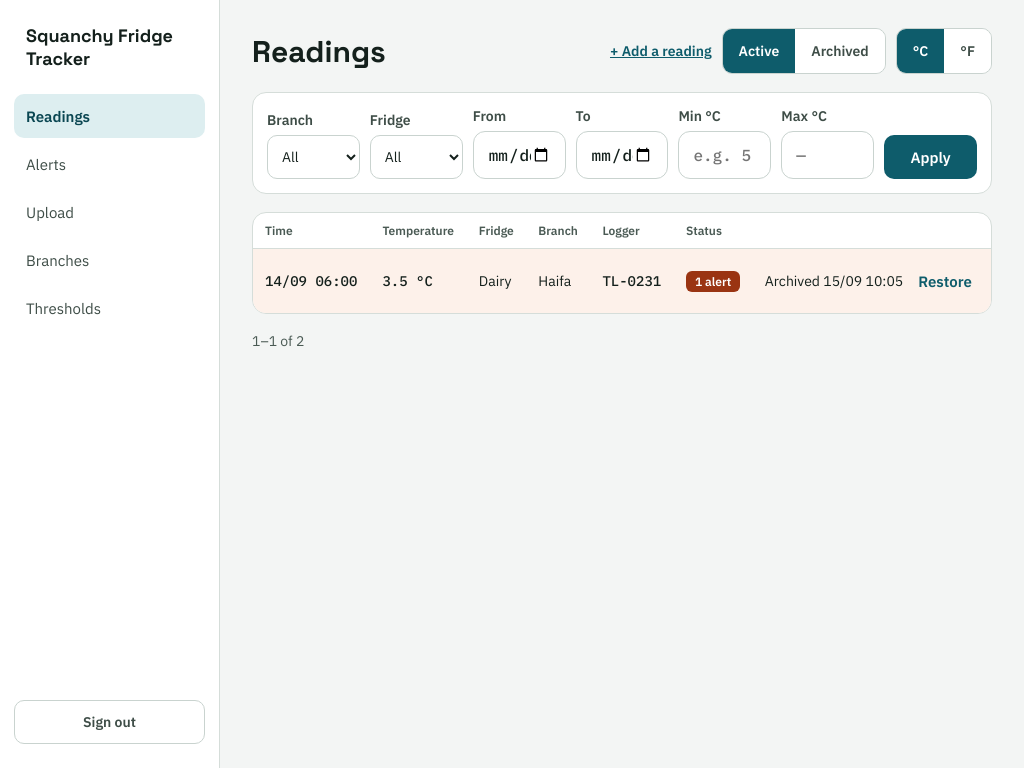
Test: ReadingsPage archive › cleans the archive only after a confirmation with the counts, and not on Cancel
Expected: the table named "Readings" is shown, [253, 213, 991, 313]
Click the button "Archived".
click(840, 51)  # box [795, 29, 885, 73]
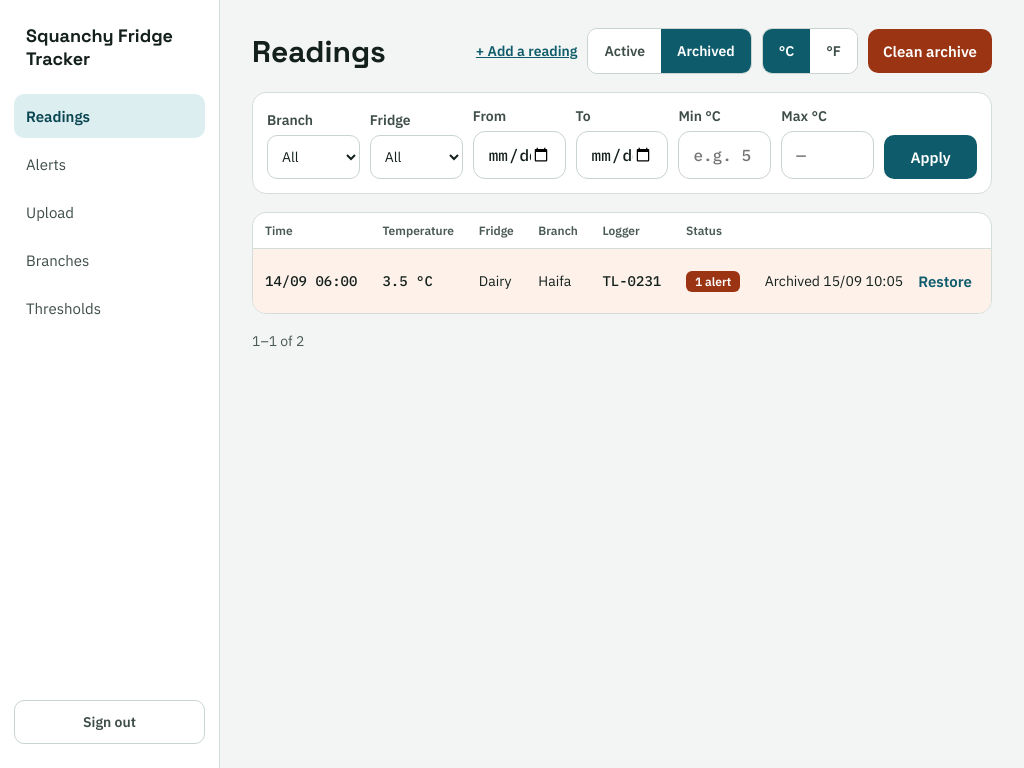
Click the button "Clean archive".
click(930, 51)  # box [868, 29, 992, 73]
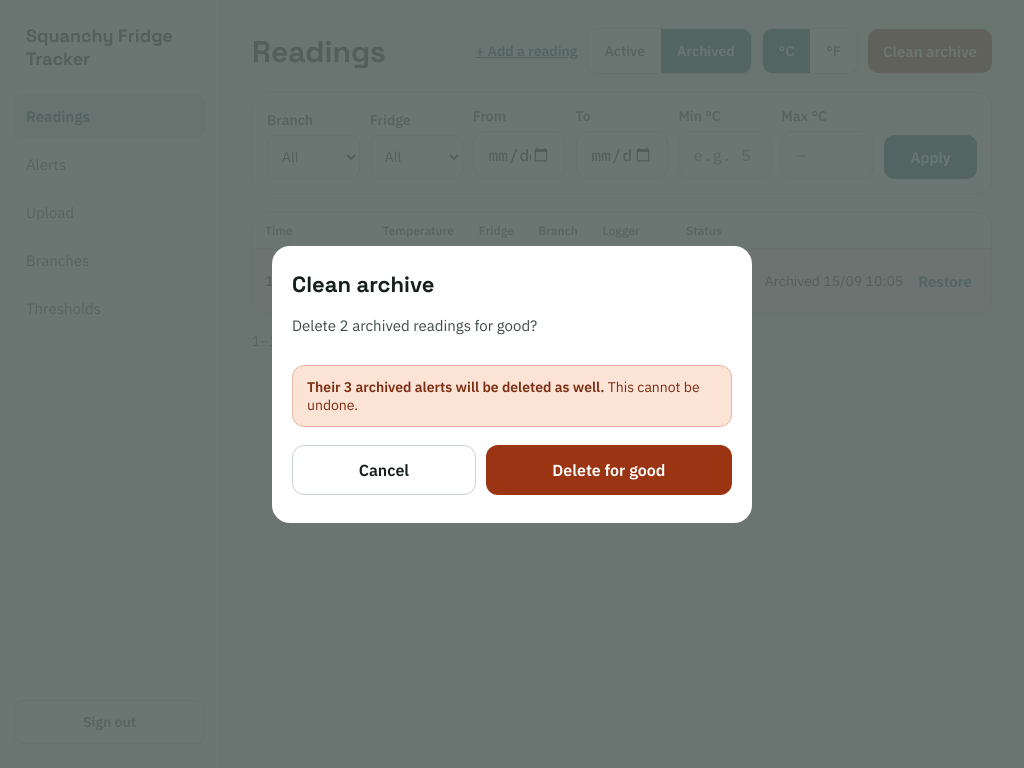
Expected: the text "Delete 2 archived readings for good?" is shown, [292, 316, 537, 334]
Expected: the message reads "Their 3 archived alerts will be deleted as well. This cannot be undone.", [292, 364, 732, 426]
Click the button "Cancel".
click(384, 470)  # box [292, 444, 476, 494]
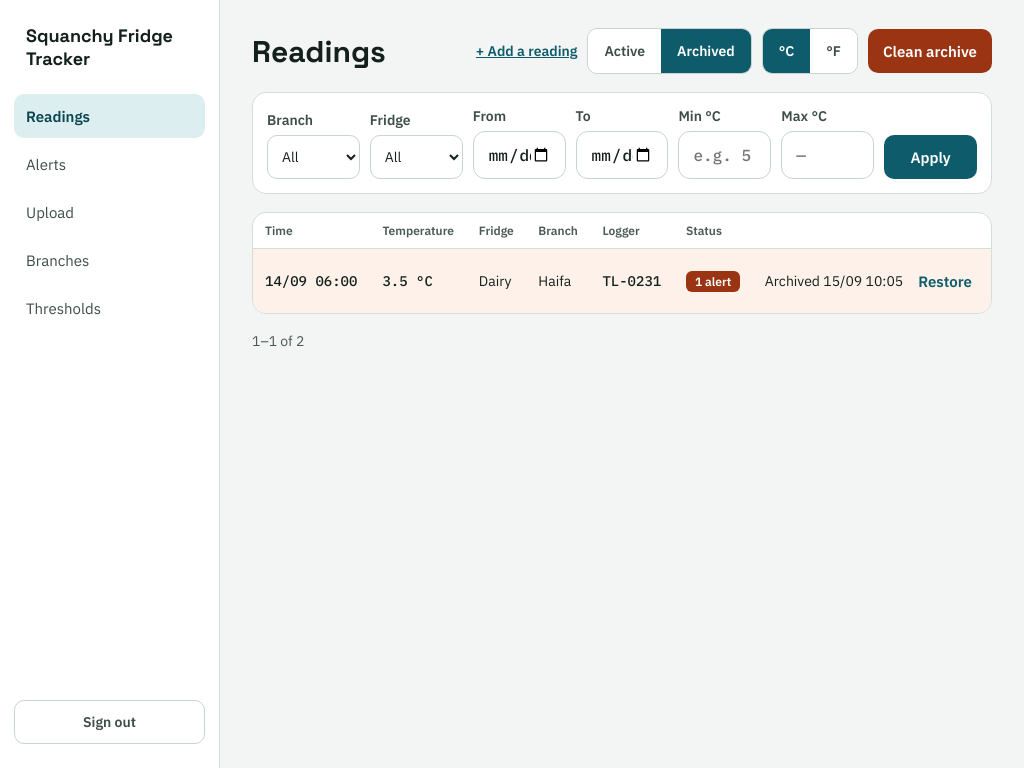
Expected: the dialog is gone
Click the button "Clean archive".
click(930, 51)  # box [868, 29, 992, 73]
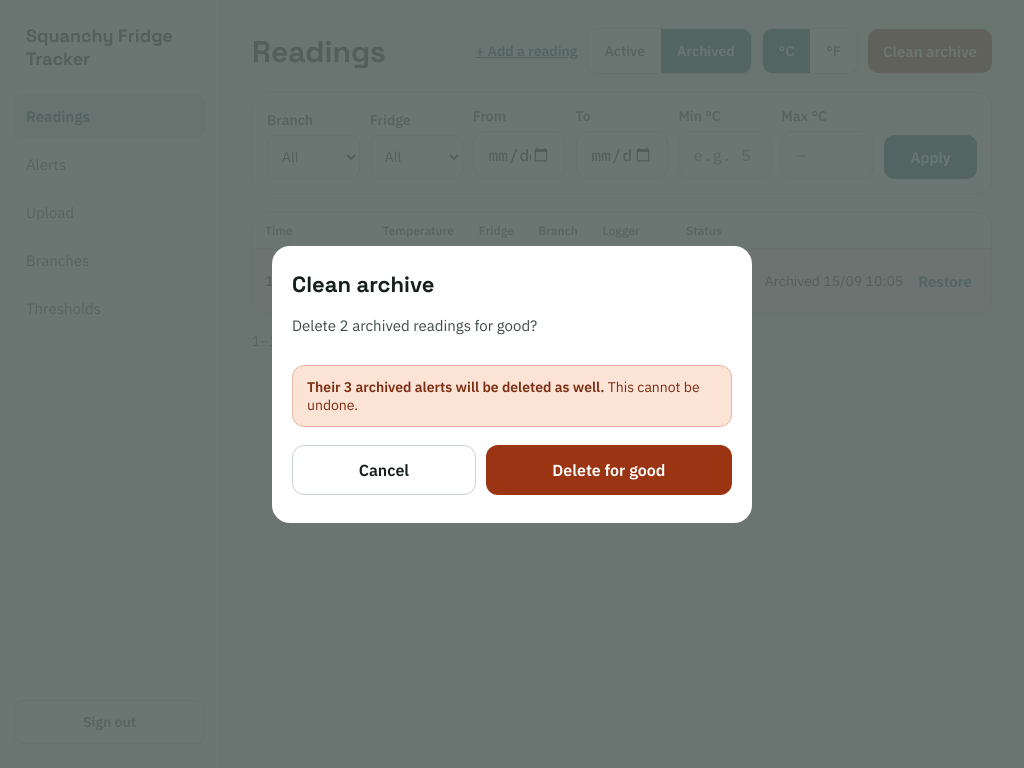
Click the button "Delete for good".
click(609, 470)  # box [486, 444, 732, 494]
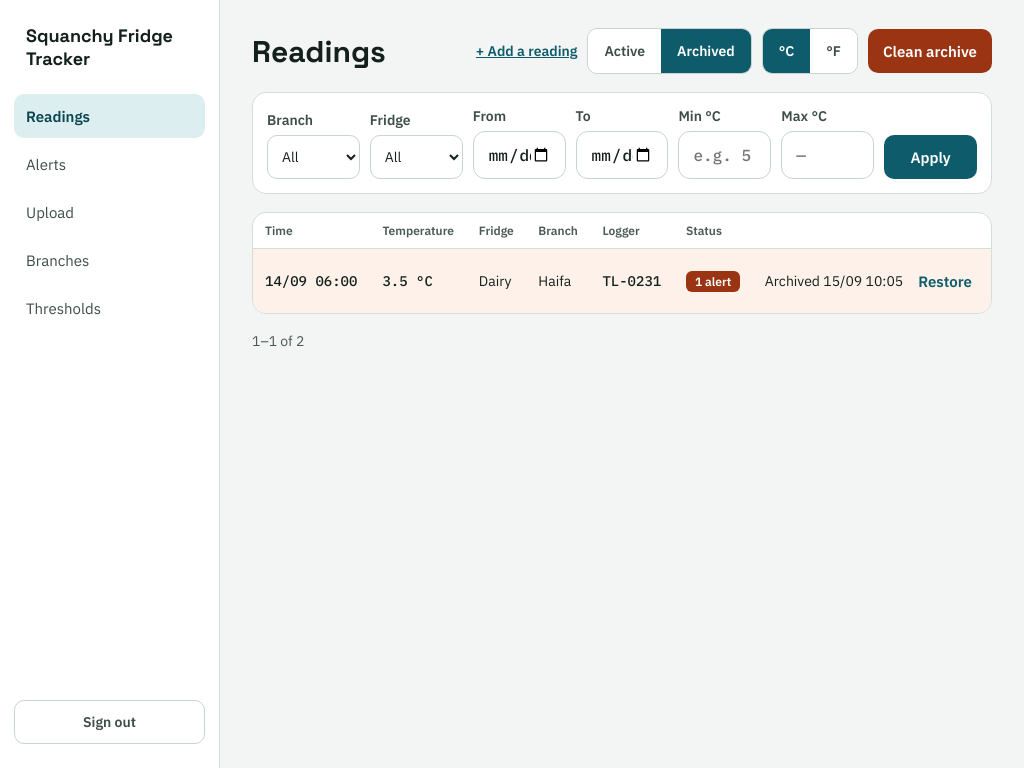
Expected: the dialog is gone
